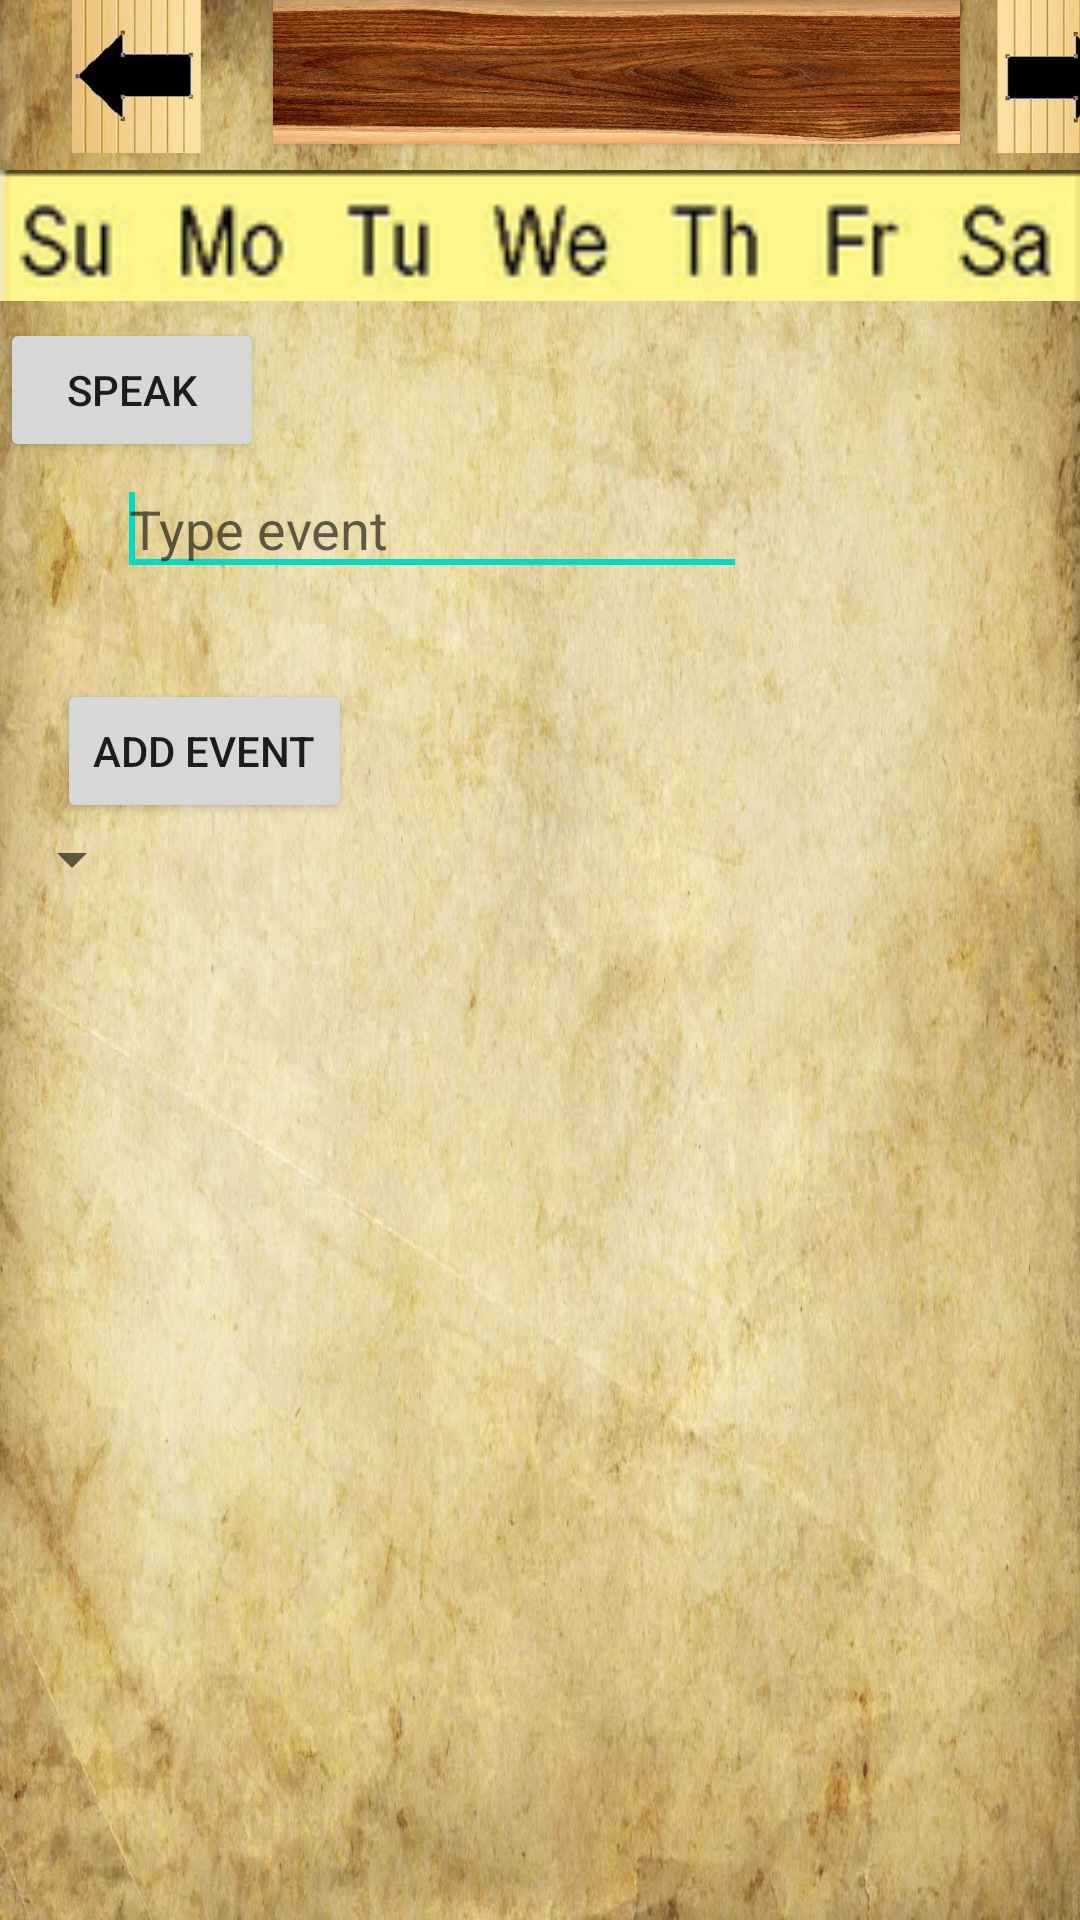

Icon click points for this 1080px×1920px phone screenshot, format point (x, y):
last: point (136, 76)
